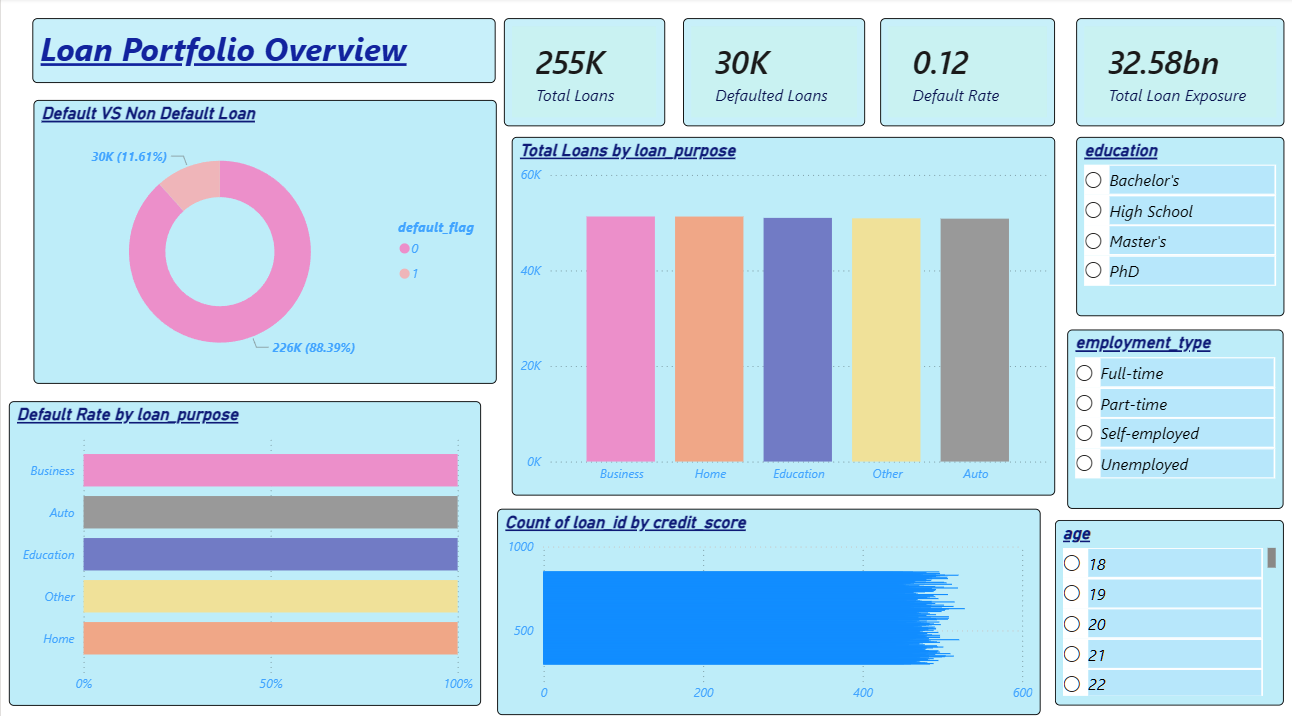

The dashboard page shown, as its layout file describes it:
{"tool":"powerbi","page":{"name":"Page 1","canvas":[1280,720],"ordinal":0},"visuals":[{"type":"cardVisual","fields":{"Data":["banking loan_default.Total Loans"]},"box":[498.7,19.7,159.7,106.8],"z":1000},{"type":"cardVisual","fields":{"Data":["banking loan_default.Defaulted Loans"]},"box":[676,19.7,180.4,106.8],"z":2000},{"type":"cardVisual","fields":{"Data":["banking loan_default.Default Rate"]},"box":[870.9,19.7,173.1,106.8],"z":3000},{"type":"cardVisual","fields":{"Data":["banking loan_default.Total Loan Exposure"]},"box":[1064.8,19.7,206.3,106.8],"z":4000},{"type":"textbox","box":[31.1,19.7,459.3,64.3],"z":5000},{"type":"donutChart","title":"Default VS Non Default Loan","fields":{"Category":["banking loan_default.default_flag"],"Y":["banking loan_default.Total Loans"]},"box":[32.1,100.6,459.3,281],"z":6000},{"type":"clusteredColumnChart","fields":{"Category":["banking loan_default.loan_purpose"],"Y":["banking loan_default.Total Loans"]},"box":[505.9,137.9,538.1,355.6],"z":6001},{"type":"hundredPercentStackedBarChart","fields":{"Category":["banking loan_default.loan_purpose"],"Y":["banking loan_default.Default Rate"]},"box":[8.3,399.2,467.6,301.7],"z":6002},{"type":"clusteredBarChart","fields":{"Category":["banking loan_default.credit_score"],"Y":["CountNonNull(banking loan_default.loan_id)"]},"box":[491.4,505.9,538.1,204.2],"z":6003},{"type":"listSlicer","fields":{"Values":["banking loan_default.education"]},"box":[1064.8,137.9,206.3,177.3],"z":6004},{"type":"listSlicer","fields":{"Values":["banking loan_default.employment_type"]},"box":[1056.5,328.7,214.6,177.3],"z":6005},{"type":"listSlicer","fields":{"Values":["banking loan_default.age"]},"box":[1044,517.3,227.1,183.5],"z":6006}]}

Visuals, with their boxes in screenshot pixels (x1, y1, x2, y2), scaled from the page's 1280x720 canvas onto the 1292x716 screenshot:
cardVisual - banking loan_default.Total Loans: left=503, top=20, right=665, bottom=126
cardVisual - banking loan_default.Defaulted Loans: left=682, top=20, right=864, bottom=126
cardVisual - banking loan_default.Default Rate: left=879, top=20, right=1054, bottom=126
cardVisual - banking loan_default.Total Loan Exposure: left=1075, top=20, right=1283, bottom=126
textbox: left=31, top=20, right=495, bottom=84
"Default VS Non Default Loan" donutChart: left=32, top=100, right=496, bottom=379
clusteredColumnChart - banking loan_default.loan_purpose x banking loan_default.Total Loans: left=511, top=137, right=1054, bottom=491
hundredPercentStackedBarChart - banking loan_default.loan_purpose x banking loan_default.Default Rate: left=8, top=397, right=480, bottom=697
clusteredBarChart - banking loan_default.credit_score x CountNonNull(banking loan_default.loan_id): left=496, top=503, right=1039, bottom=706
listSlicer - banking loan_default.education: left=1075, top=137, right=1283, bottom=313
listSlicer - banking loan_default.employment_type: left=1066, top=327, right=1283, bottom=503
listSlicer - banking loan_default.age: left=1054, top=514, right=1283, bottom=697
